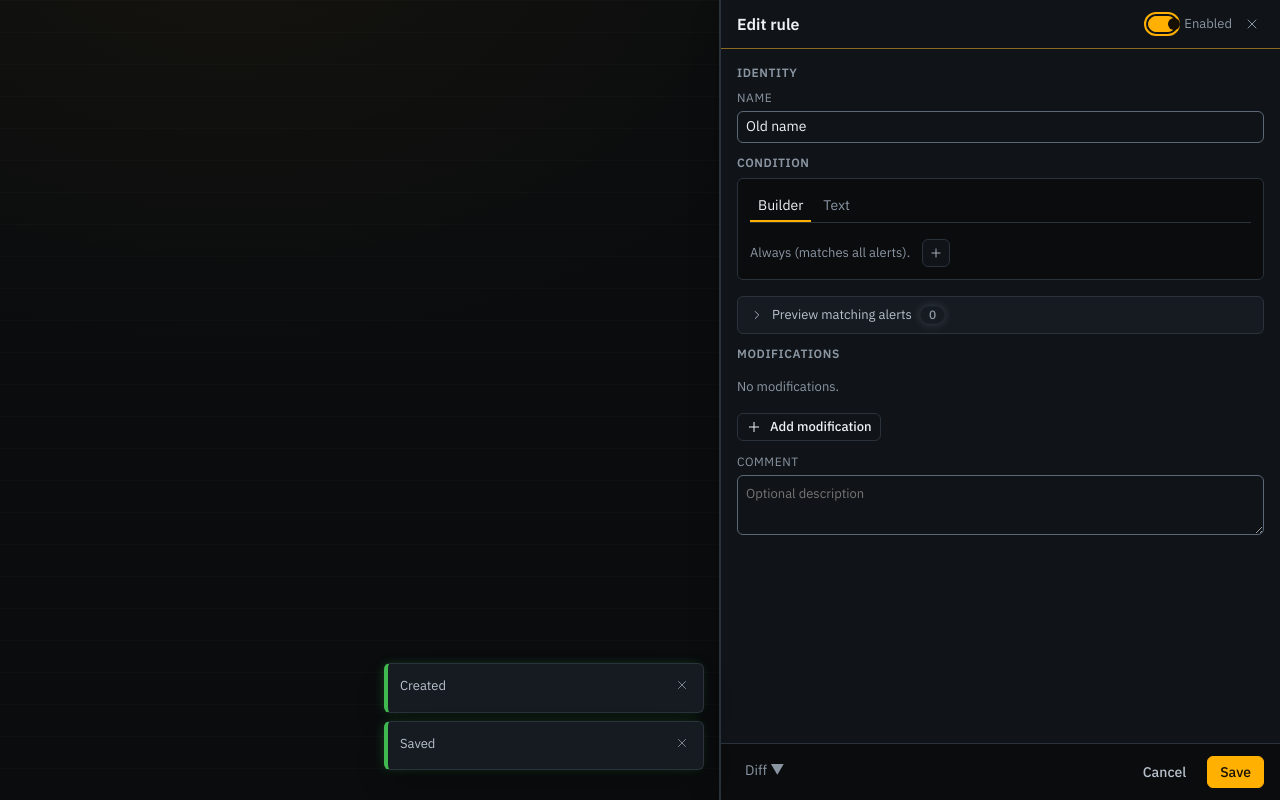
Test: RuleEditor › does not run stableYaml while typing in Name with the diff collapsed
Type " edited" into the field showing "Old name" at point(1000, 127), box [738,116,1263,137]
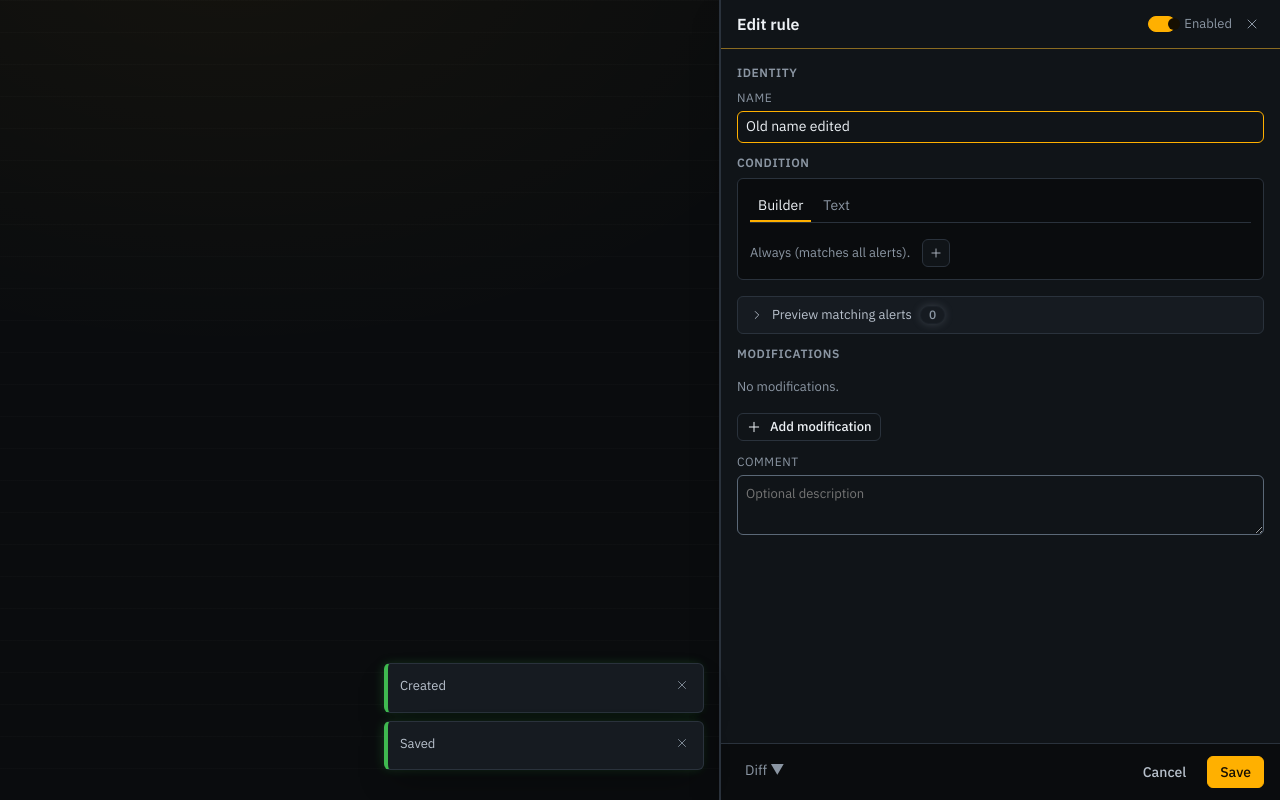
Note: Expanding the diff computes both sides (old + new) exactly once.
Click the button "Diff ▼" at point(765, 770), box [737,756,792,785]
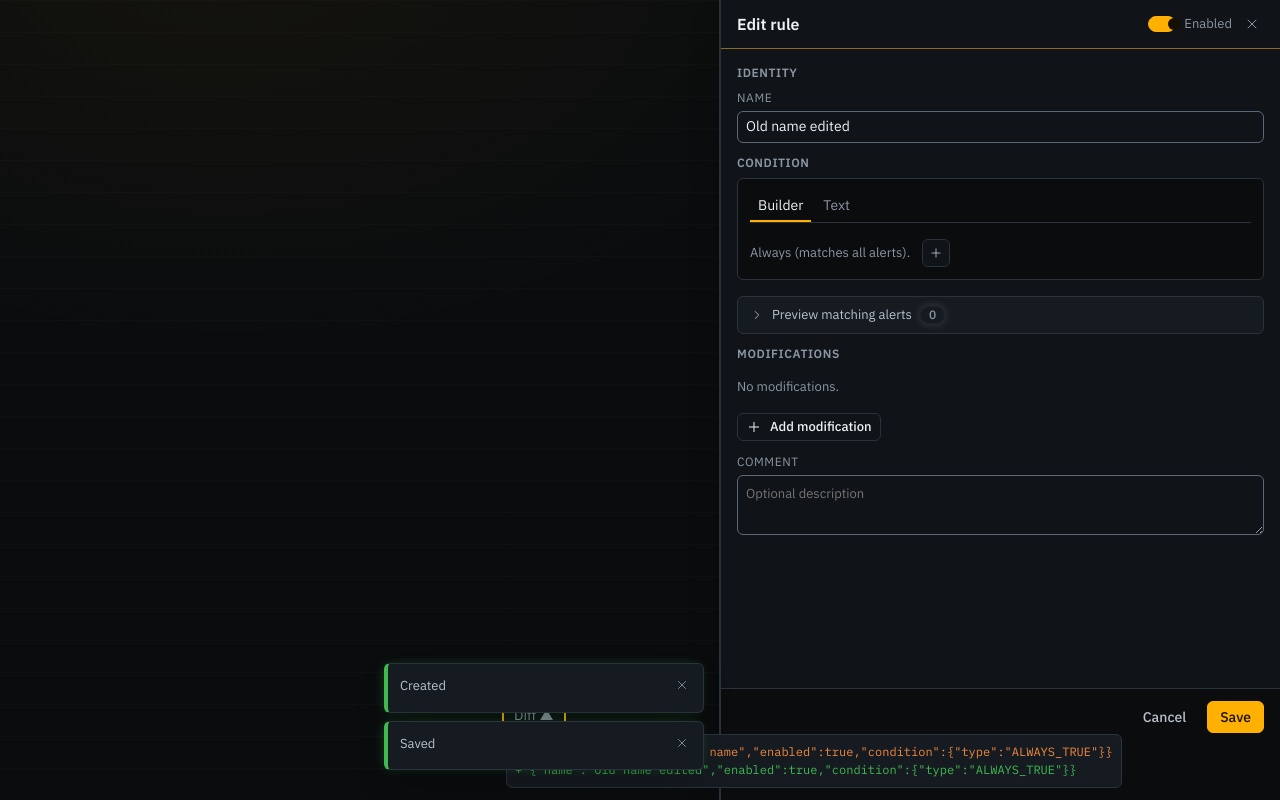
expect the element named "Diff" is shown: met, box [506,734,1122,788]
